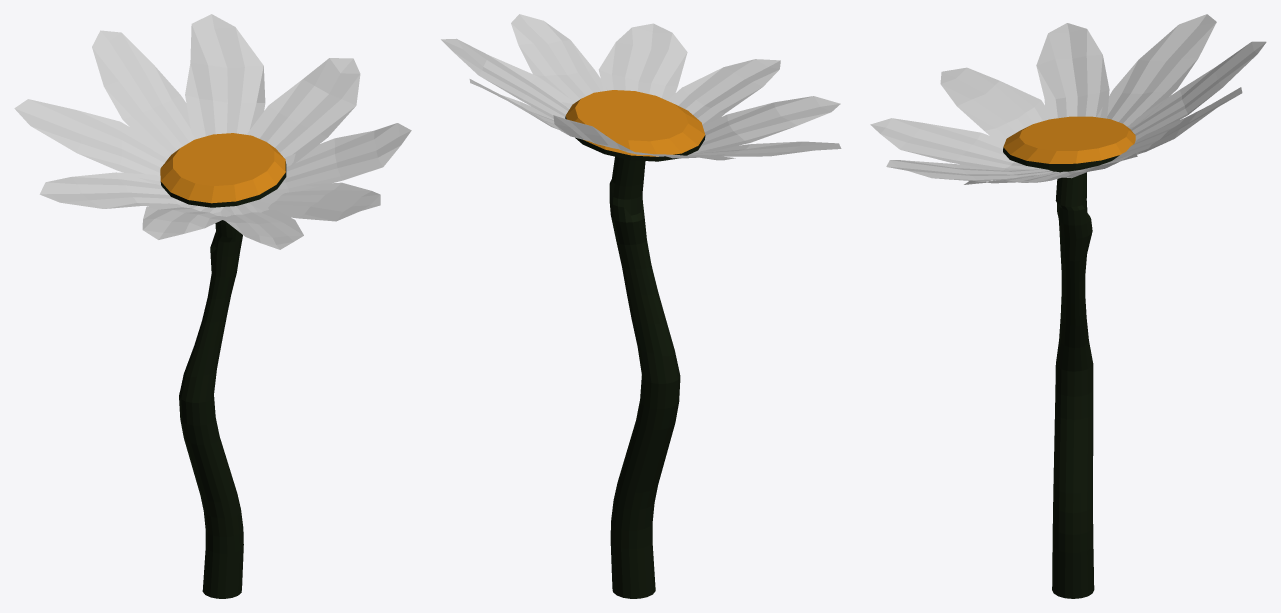
3 views of the same model, side by side, from view 1: azimuth 30°, elevation 25°; view 2: azimuth 150°, elevation 25°; view 3: azimuth 270°, elevation 25° (orthographic). The views are drawn at different scales.
Parts seen in each view (by area): view 1: Flower, Stem; view 2: Stem, Flower; view 3: Flower, Stem.
Part boxes in pixels (x1,y1,x2,y2): Flower: (14,14,411,249); Stem: (160,133,286,598); Stem: (565,90,705,598); Flower: (441,14,841,160); Flower: (870,14,1266,184); Stem: (1003,116,1135,598).
Size of the model in its own units: 6.07 by 8.58 by 5.79.
